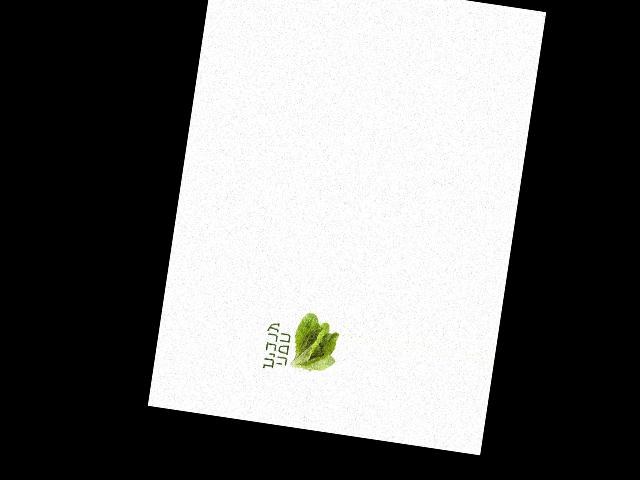lettuce: (284, 310, 341, 378)
